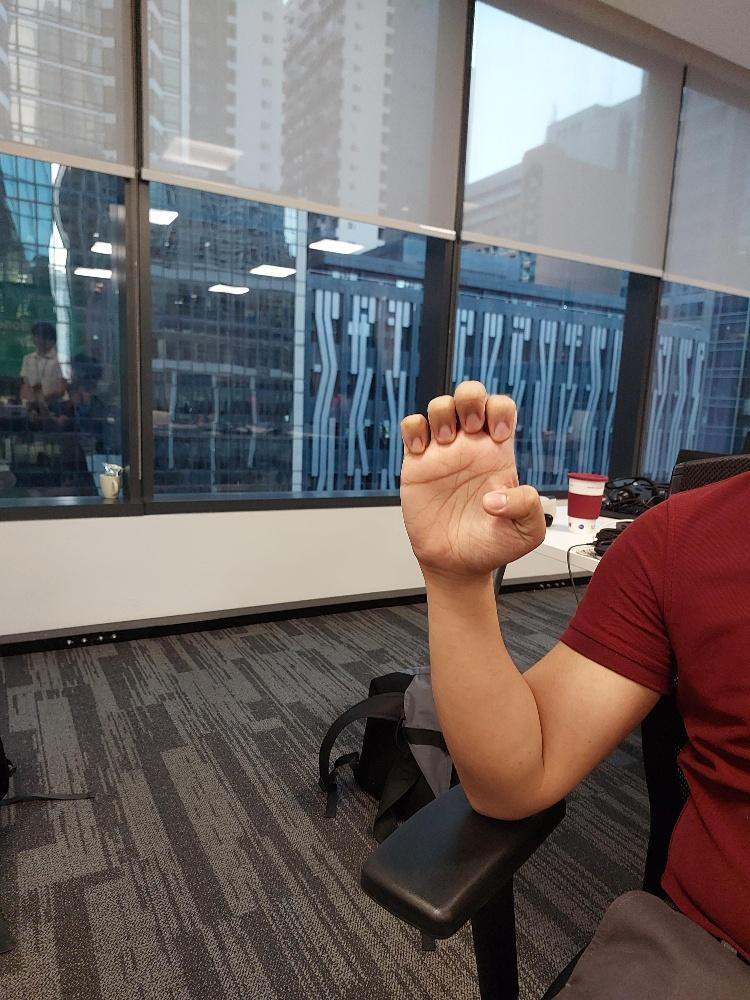e: (396, 378, 548, 586)
